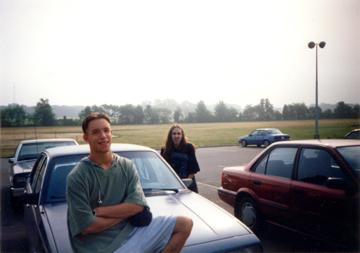car: (22, 142, 260, 253), (216, 135, 360, 238), (8, 138, 82, 197), (239, 128, 290, 148), (340, 129, 360, 147)
person: (65, 112, 194, 253), (160, 124, 201, 230)
